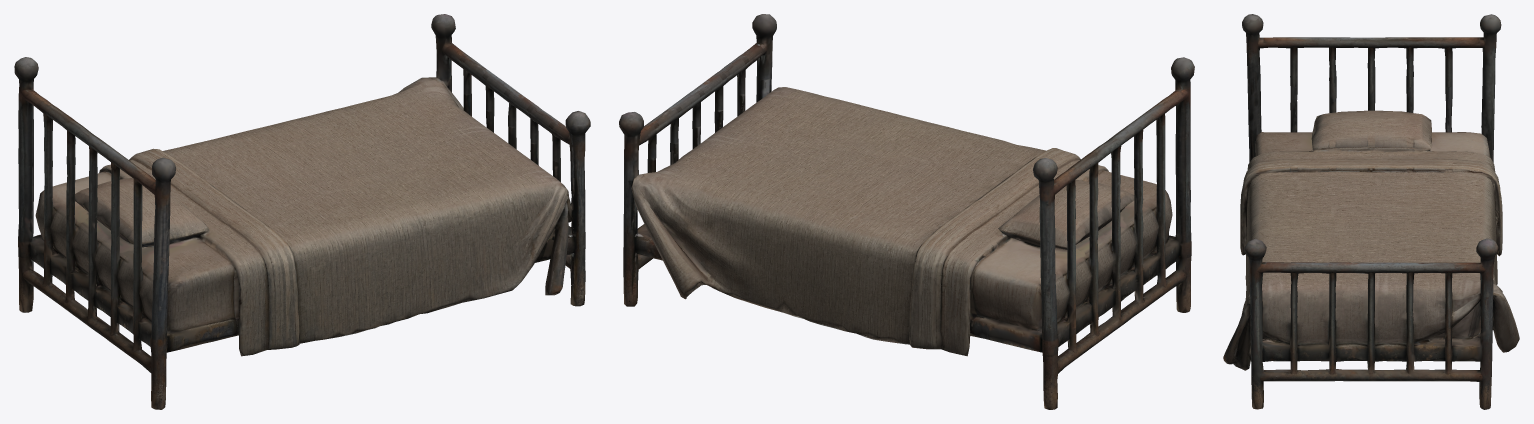
The model's file is Furn_ServantBed.fbx.
3 views of the same model, side by side, from view 1: azimuth 30°, elevation 25°; view 2: azimuth 150°, elevation 25°; view 3: azimuth 270°, elevation 25° (orthographic). The views are drawn at different scales.
Visible parts, largest first — view 1: texture_mapping; view 2: texture_mapping; view 3: texture_mapping.
Boxes of the visible parts, x1=… form: texture_mapping: x1=14, y1=14, x2=590, y2=409; texture_mapping: x1=619, y1=14, x2=1194, y2=409; texture_mapping: x1=1223, y1=14, x2=1519, y2=409.
Bounding box in the file's own units: 0.999 × 0.678 × 0.5451.
Materials: 1 (1 with a texture image).
